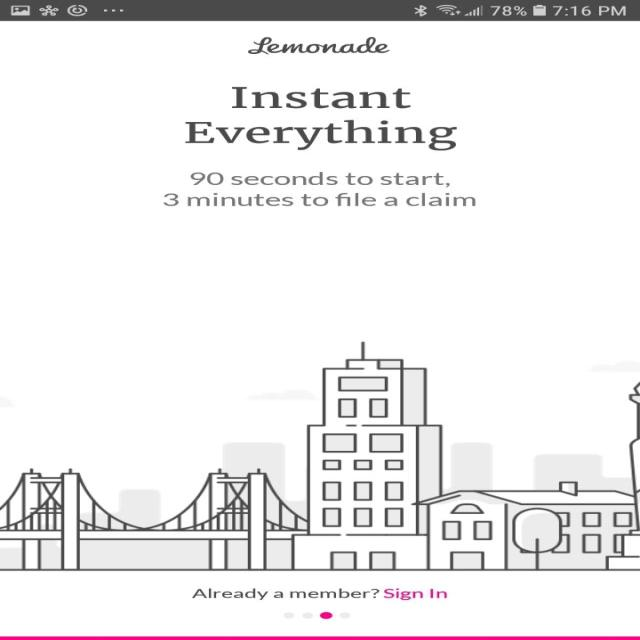Image: (0, 341, 639, 571), (247, 37, 389, 55)
Text: (184, 86, 457, 150), (162, 172, 476, 206), (191, 588, 447, 600)
